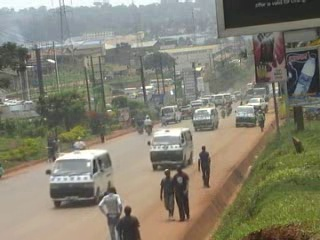Car: (178, 104, 195, 121)
Motorcycle: (142, 111, 153, 137), (134, 112, 144, 135), (70, 133, 85, 148), (218, 101, 227, 120), (224, 100, 234, 117)
